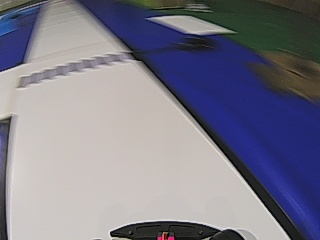CrossWalk: (25, 51, 131, 84)
